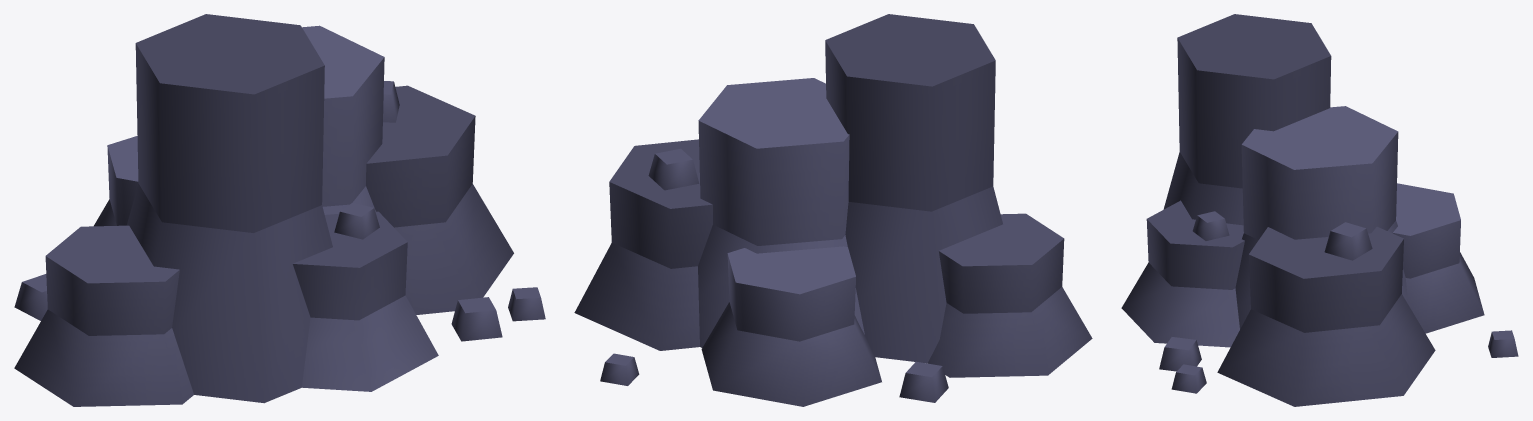
File: rocks-a.fbx
3 renders of one model, left to right at view 1: azimuth 30°, elevation 25°; view 2: azimuth 150°, elevation 25°; view 3: azimuth 270°, elevation 25°, orthographic. The views are drawn at different scales.
Visible parts, largest first — view 1: rocks-a; view 2: rocks-a; view 3: rocks-a.
Part boxes in pixels (x1=…): rocks-a: x1=14, y1=14, x2=545, y2=406; rocks-a: x1=574, y1=14, x2=1092, y2=406; rocks-a: x1=1121, y1=14, x2=1518, y2=406.
Bounding box in the file's own units: 511 × 290 × 439.
